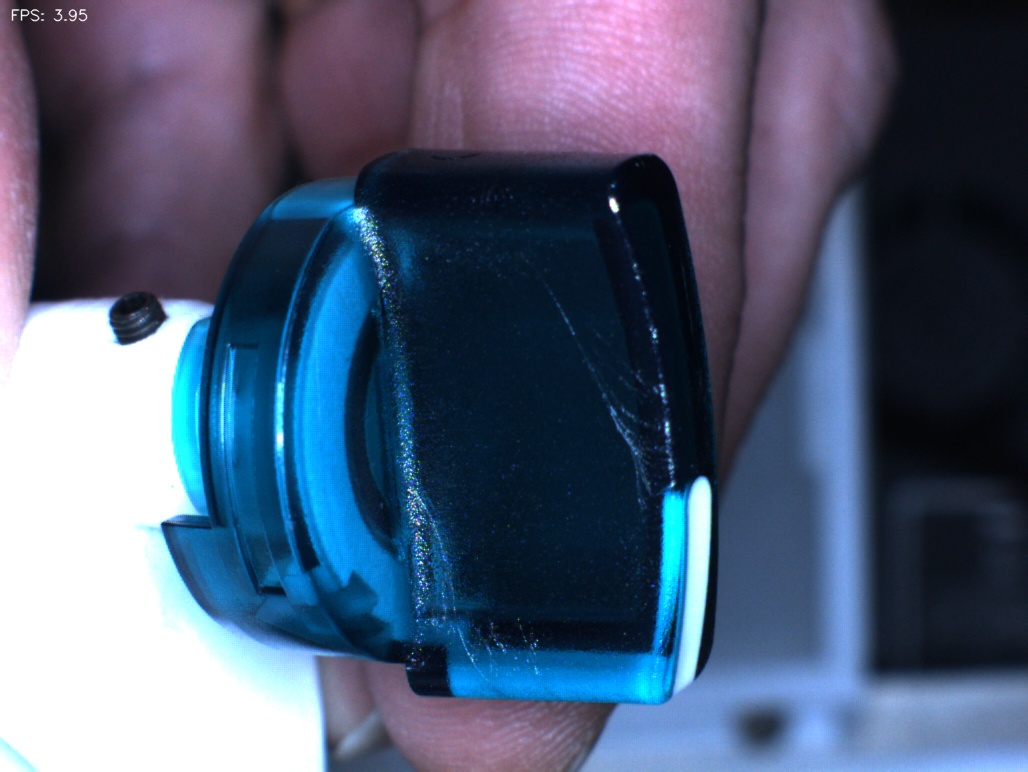Givrage: (527, 273, 679, 503)
